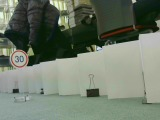speed_30: (9, 49, 29, 69)
